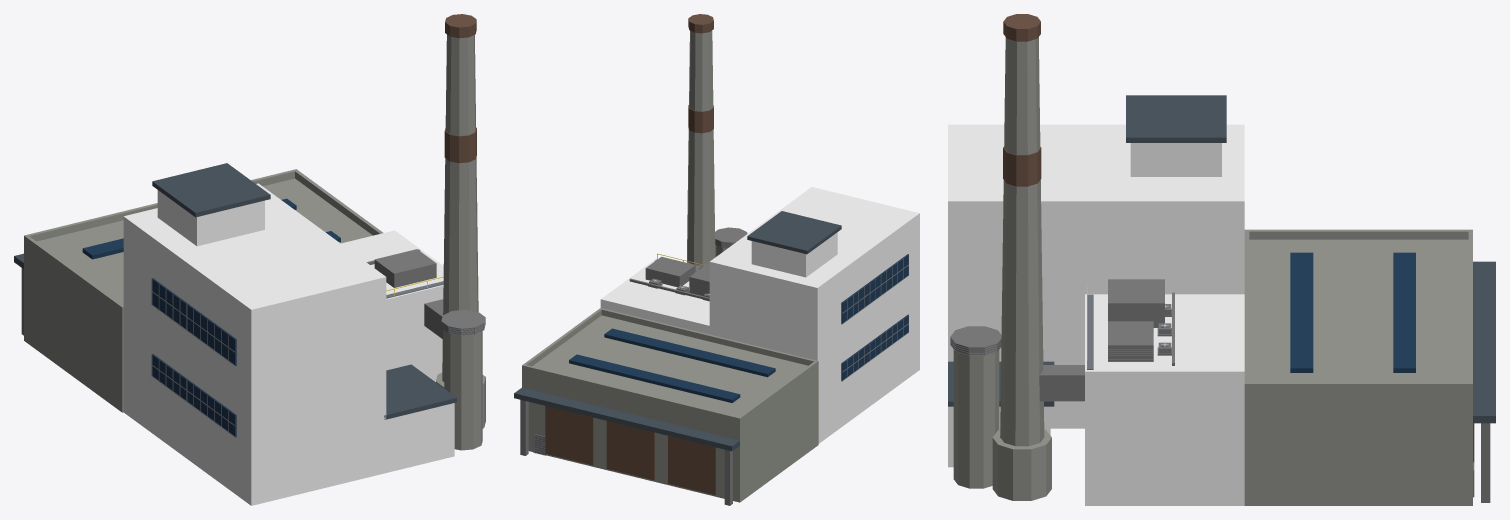
File: site_plant_close.fbx
The picture shows the model from 3 angles, left to right: view 1: azimuth 30°, elevation 25°; view 2: azimuth 150°, elevation 25°; view 3: azimuth 270°, elevation 25°; orthographic projection. The views are drawn at different scales.
Parts seen in each view (by area): view 1: a1059/0/site_plant_close; view 2: a1059/0/site_plant_close; view 3: a1059/0/site_plant_close.
Boxes of the visible parts, x1,y1,x2,y2 form: a1059/0/site_plant_close: (14,14,485,505); a1059/0/site_plant_close: (514,14,919,505); a1059/0/site_plant_close: (948,14,1495,505).
Bounding box in the file's own units: 32 × 45.2 × 48.
